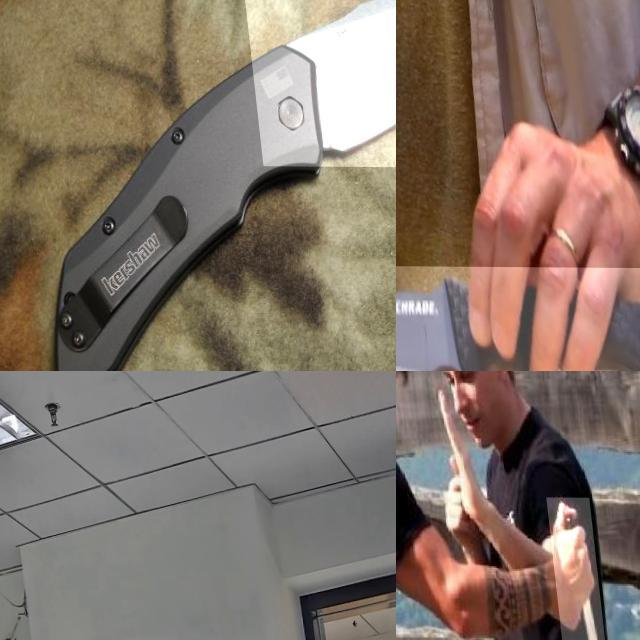-: (236, 0, 396, 167), (396, 264, 640, 371), (539, 496, 599, 640)
